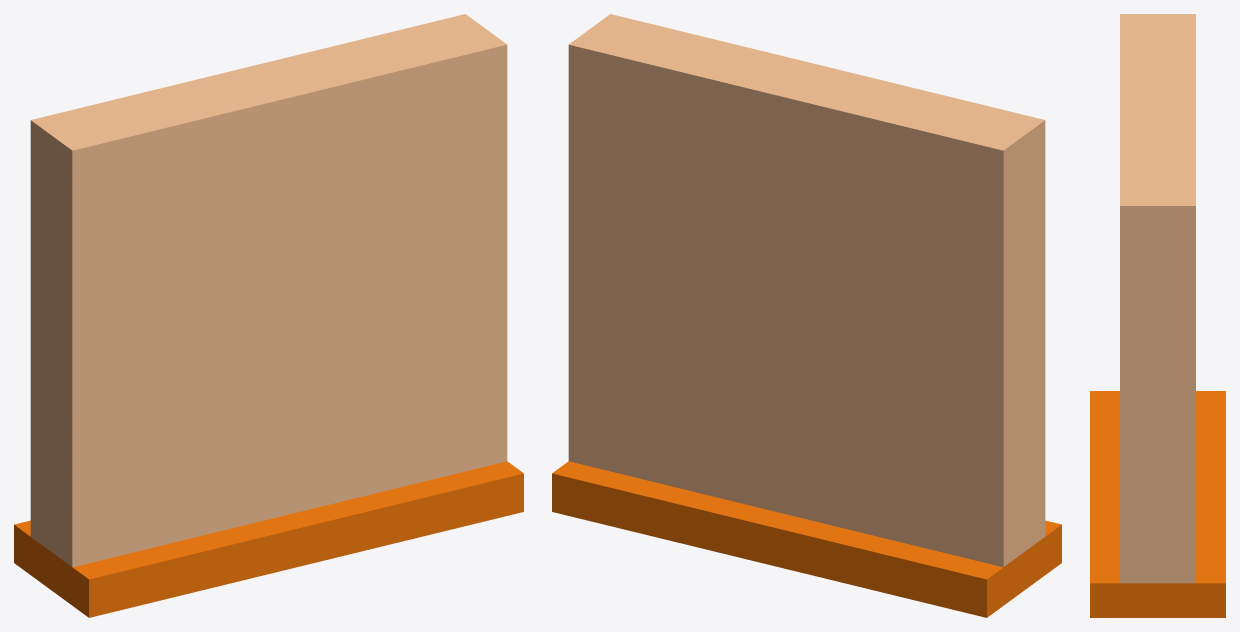
Rendered from Wall E.fbx.
The picture shows the model from 3 angles, left to right: view 1: azimuth 30°, elevation 25°; view 2: azimuth 150°, elevation 25°; view 3: azimuth 270°, elevation 25°; orthographic projection. The views are drawn at different scales.
Visible parts, largest first — view 1: Wall E; view 2: Wall E; view 3: Wall E.
Boxes of the visible parts, x1,y1,x2,y2 form: Wall E: (14,14,523,617); Wall E: (552,14,1061,617); Wall E: (1090,14,1225,617).
Size of the model in its own units: 300 by 300 by 89.76.
